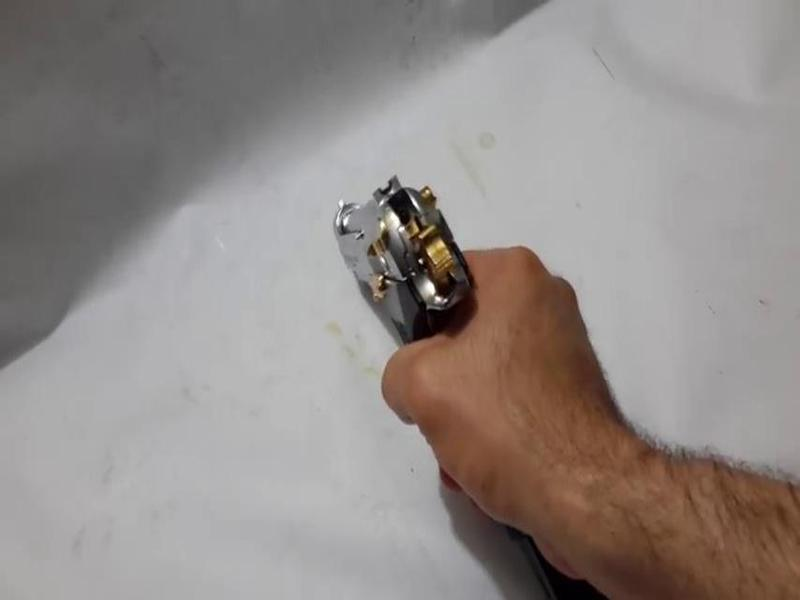Pistola: (312, 159, 526, 502)
